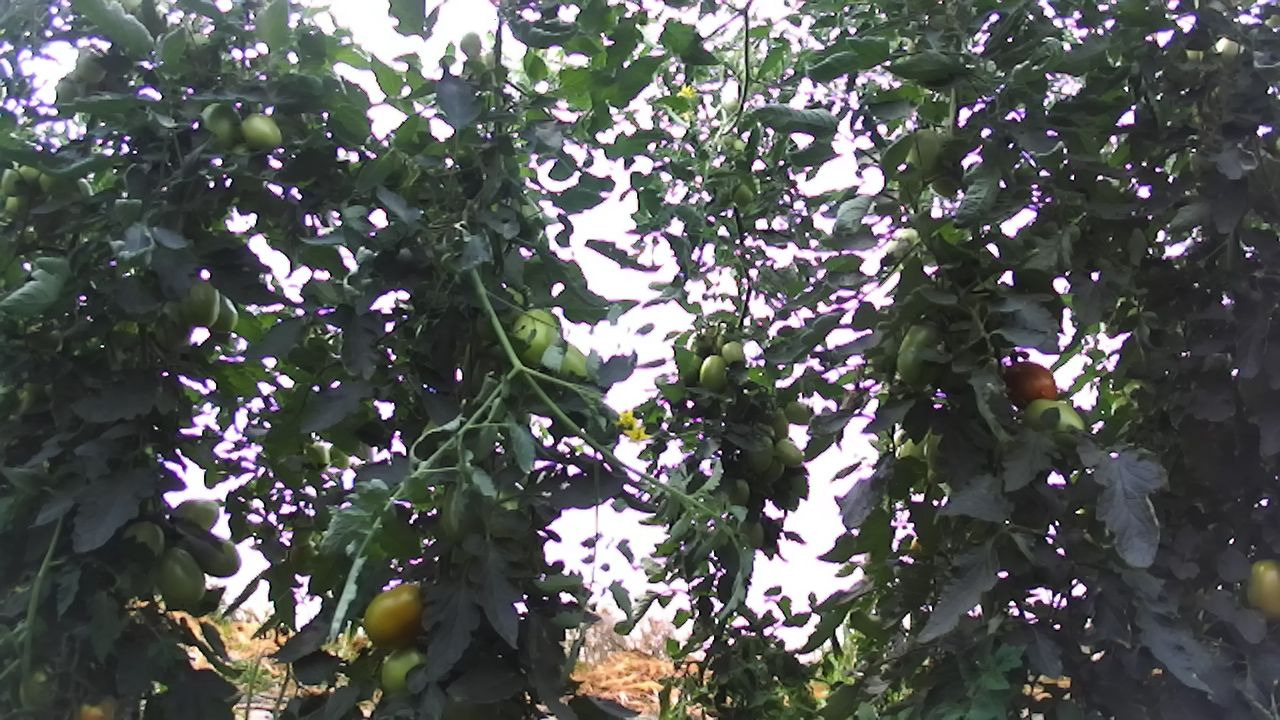tomato: (354, 578, 428, 651), (889, 317, 949, 395), (504, 301, 566, 371), (994, 356, 1062, 417), (149, 543, 207, 610), (175, 270, 225, 333), (1244, 556, 1280, 624), (234, 108, 283, 151), (204, 285, 243, 339), (772, 438, 806, 469), (697, 355, 727, 389), (716, 339, 749, 365), (784, 397, 811, 426)
